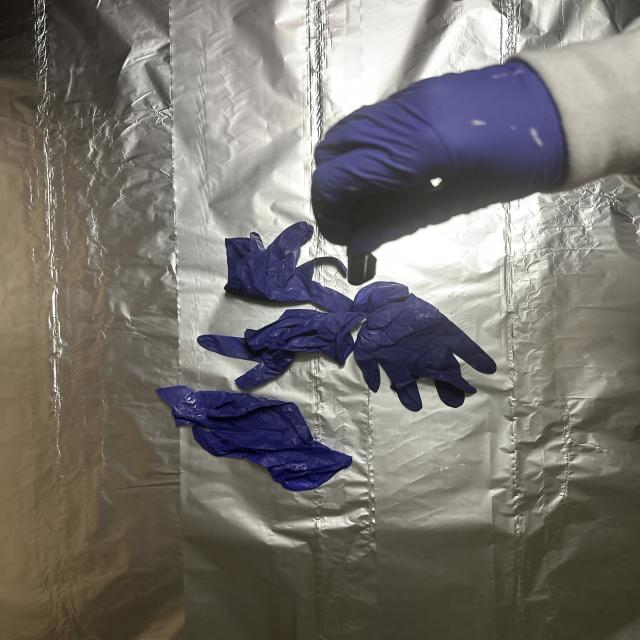gloves_contaminated: (312, 62, 566, 255)
